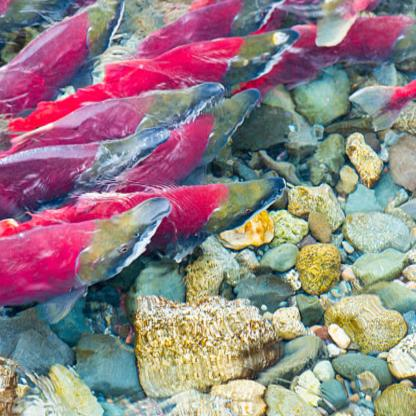sockeye: (0, 196, 162, 307), (65, 172, 286, 246), (109, 83, 255, 183), (116, 17, 300, 83), (0, 7, 99, 106), (8, 142, 100, 199)
sockeye-group: (10, 0, 313, 309)
